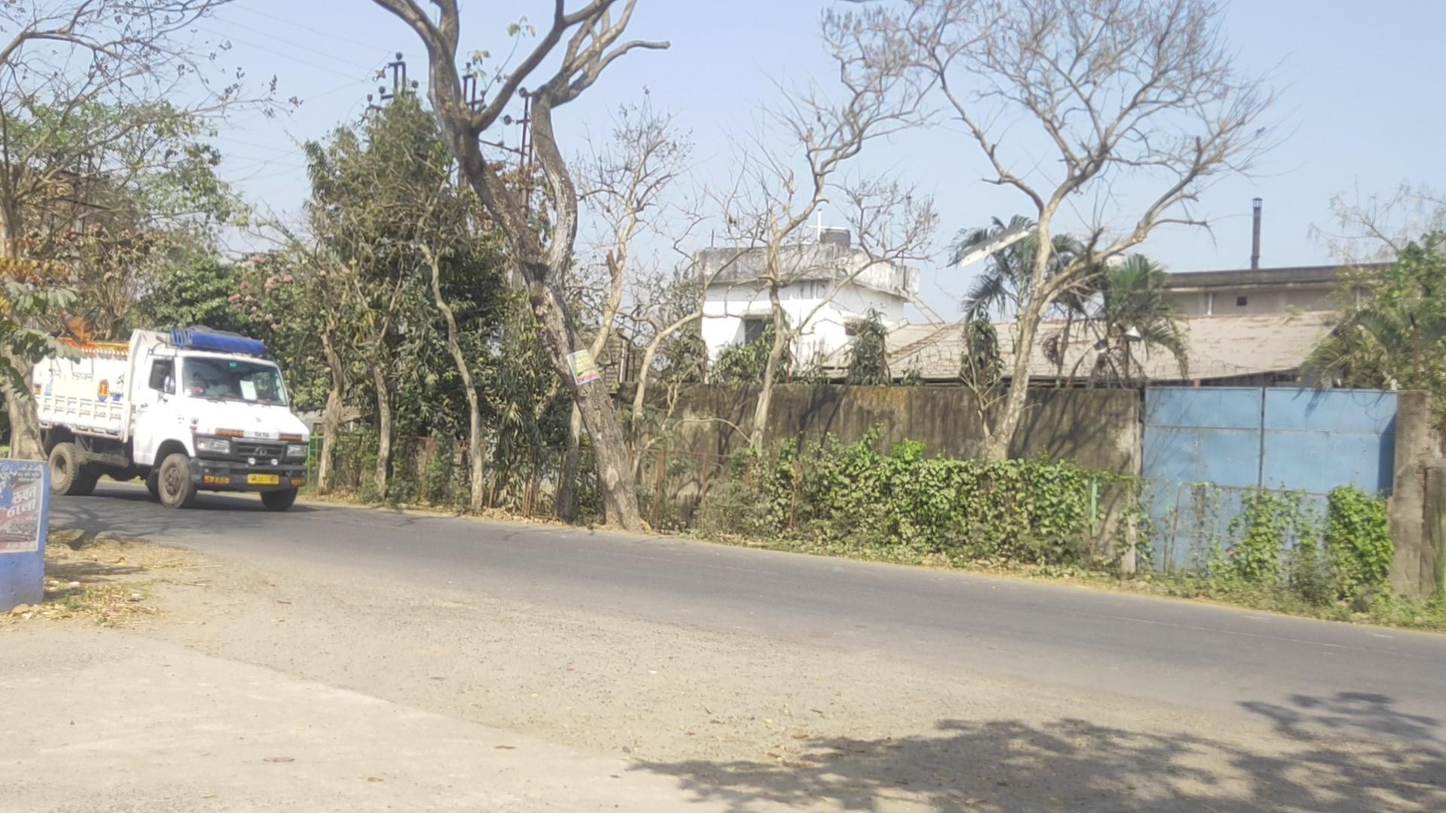van: (27, 325, 311, 510)
